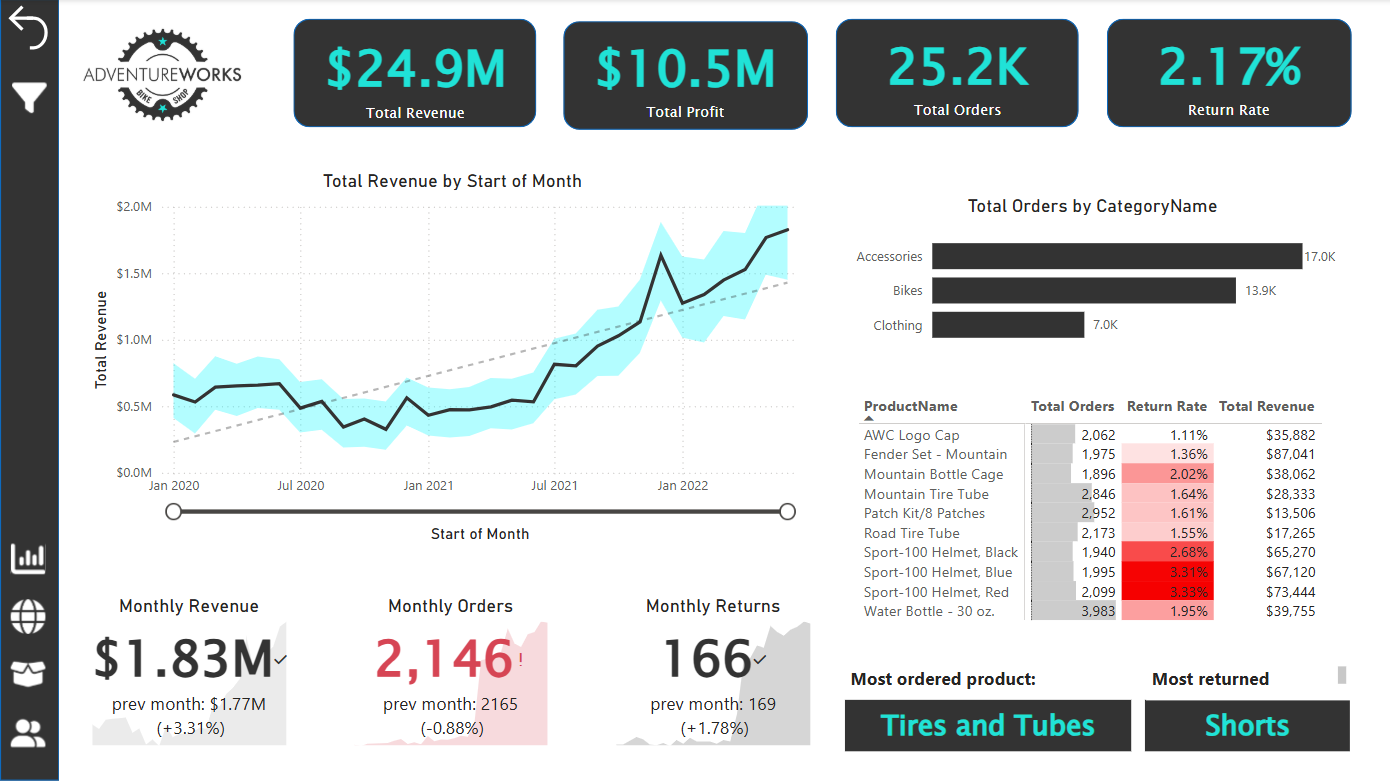

The dashboard page shown, as its layout file describes it:
{"tool":"powerbi","page":{"name":"Executive Dashboard","canvas":[1280,720],"ordinal":0},"visuals":[{"type":"card","fields":{"Values":["Measurable Table.Total Revenue"]},"box":[265,8.3,233.3,126.7],"z":0,"group":"g2"},{"type":"image","title":"AW Logo","box":[55,15,188.3,110],"z":0},{"type":"group","id":"g1","title":"KPI Bcakground","box":[269.4,18.3,973.4,101.7],"z":0,"group":"g3"},{"type":"shape","box":[1017.6,18.3,225.2,99.9],"z":0,"group":"g1"},{"type":"actionButton","box":[5.4,495.8,99.9,40],"z":0,"group":"g4"},{"type":"shape","title":"Left Nav","box":[0,0,54.5,719.1],"z":1000},{"type":"group","id":"g2","title":"KPI values","box":[265,8.3,968.3,126.7],"z":1000,"group":"g3"},{"type":"card","fields":{"Values":["Measurable Table.Total Profit"]},"box":[526.7,15,206.7,111.7],"z":1000,"group":"g2"},{"type":"shape","box":[768.8,18.3,223.4,99.9],"z":1000,"group":"g1"},{"type":"actionButton","box":[5.4,549.1,99.9,40],"z":1000,"group":"g4"},{"type":"group","id":"g3","title":"KPI's","box":[265,8.3,978.3,126.7],"z":2000},{"type":"card","fields":{"Values":["Measurable Table.Total Orders"]},"box":[776.7,13.3,206.7,111.7],"z":2000,"group":"g2"},{"type":"shape","box":[518.2,20.1,225.2,99.9],"z":2000,"group":"g1"},{"type":"actionButton","box":[5.4,602.3,99.9,40],"z":2000,"group":"g4"},{"type":"card","fields":{"Values":["Measurable Table.Return Rate"]},"box":[1026.7,13.3,206.7,111.7],"z":3000,"group":"g2"},{"type":"shape","box":[269.4,18.3,223.4,99.9],"z":3000,"group":"g1"},{"type":"lineChart","fields":{"Y":["Measurable Table.Total Revenue"],"Category":["Calendar Lookup.Start of Month"]},"box":[79.9,156.2,673.7,346.8],"z":3000},{"type":"actionButton","box":[5.4,655.6,99.9,40],"z":3000,"group":"g4"},{"type":"actionButton","box":[7.3,70.8,99.9,40],"z":4000},{"type":"kpi","title":"Monthly Revenue ","fields":{"Indicator":["Measurable Table.Total Revenue"],"TrendLine":["Calendar Lookup.Start of Month"],"Goal":["Measurable Table.Previous month Revenue"]},"box":[79.9,548.4,188.9,143.5],"z":5000},{"type":"kpi","title":"Monthly Orders","fields":{"Indicator":["Measurable Table.Total Orders"],"TrendLine":["Calendar Lookup.Start of Month"],"Goal":["Measurable Table.Previous month orders"]},"box":[320.9,548.4,188,143.5],"z":6000},{"type":"kpi","title":"Monthly Returns","fields":{"TrendLine":["Calendar Lookup.Start of Month"],"Indicator":["Measurable Table.Total Returns"],"Goal":["Measurable Table.Previous month returns"]},"box":[561.1,548.4,188.9,143.5],"z":7000},{"type":"clusteredBarChart","fields":{"Category":["Product Categories Lookup.CategoryName"],"Y":["Measurable Table.Total Orders"]},"box":[777.2,179.8,455.8,150.7],"z":8000},{"type":"pivotTable","fields":{"Rows":["Product Lookup.ProductName"],"Values":["Measurable Table.Total Orders","Measurable Table.Return Rate","Measurable Table.Total Revenue"]},"box":[784.5,359.6,464.9,245.2],"z":9000},{"type":"card","fields":{"Values":["Min(Product Subcategories Lookup.SubcategoryName)"]},"box":[777.2,644.7,263.3,47.2],"z":10000},{"type":"card","fields":{"Values":["Min(Product Subcategories Lookup.SubcategoryName)"]},"box":[1053.3,644.7,188.9,47.2],"z":11000},{"type":"textbox","box":[777.2,608.3,214.3,36.3],"z":12000},{"type":"textbox","box":[1055.1,608.3,188.9,36.3],"z":13000},{"type":"actionButton","box":[0,0,79.9,52.7],"z":14000},{"type":"group","id":"g4","title":"Navigation button","box":[5.4,495.8,99.9,199.8],"z":15000}]}

Visuals, with their boxes on the page's 1280x720 design canvas (x1, y1, x2, y2). These are canvas units, not pixel positions in the 1390x781 screenshot, which may show the page scaled, cropped or inside an application window:
card - Measurable Table.Total Revenue: <region>265, 8, 498, 135</region>
"AW Logo" image: <region>55, 15, 243, 125</region>
"KPI Bcakground" group: <region>269, 18, 1243, 120</region>
shape: <region>1018, 18, 1243, 118</region>
actionButton: <region>5, 496, 105, 536</region>
"Left Nav" shape: <region>0, 0, 54, 719</region>
"KPI values" group: <region>265, 8, 1233, 135</region>
card - Measurable Table.Total Profit: <region>527, 15, 733, 127</region>
shape: <region>769, 18, 992, 118</region>
actionButton: <region>5, 549, 105, 589</region>
"KPI's" group: <region>265, 8, 1243, 135</region>
card - Measurable Table.Total Orders: <region>777, 13, 983, 125</region>
shape: <region>518, 20, 743, 120</region>
actionButton: <region>5, 602, 105, 642</region>
card - Measurable Table.Return Rate: <region>1027, 13, 1233, 125</region>
shape: <region>269, 18, 493, 118</region>
lineChart - Measurable Table.Total Revenue x Calendar Lookup.Start of Month: <region>80, 156, 754, 503</region>
actionButton: <region>5, 656, 105, 696</region>
actionButton: <region>7, 71, 107, 111</region>
"Monthly Revenue " kpi: <region>80, 548, 269, 692</region>
"Monthly Orders" kpi: <region>321, 548, 509, 692</region>
"Monthly Returns" kpi: <region>561, 548, 750, 692</region>
clusteredBarChart - Product Categories Lookup.CategoryName x Measurable Table.Total Orders: <region>777, 180, 1233, 330</region>
pivotTable - Product Lookup.ProductName x Measurable Table.Total Orders: <region>784, 360, 1249, 605</region>
card - Min(Product Subcategories Lookup.SubcategoryName): <region>777, 645, 1040, 692</region>
card - Min(Product Subcategories Lookup.SubcategoryName): <region>1053, 645, 1242, 692</region>
textbox: <region>777, 608, 992, 645</region>
textbox: <region>1055, 608, 1244, 645</region>
actionButton: <region>0, 0, 80, 53</region>
"Navigation button" group: <region>5, 496, 105, 696</region>
